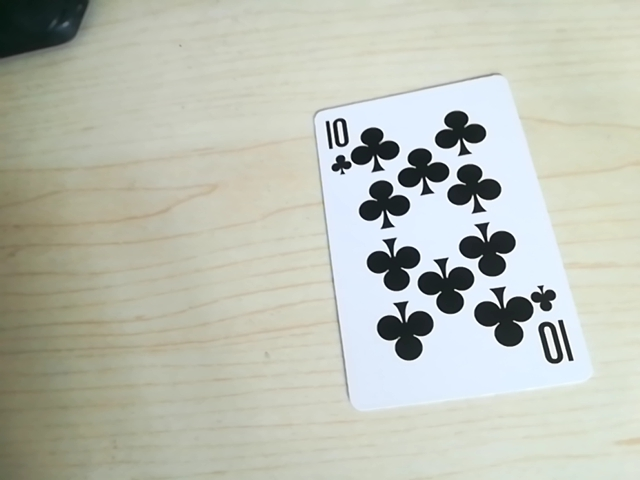mh 10: (534, 286, 573, 372), (316, 118, 358, 168)
